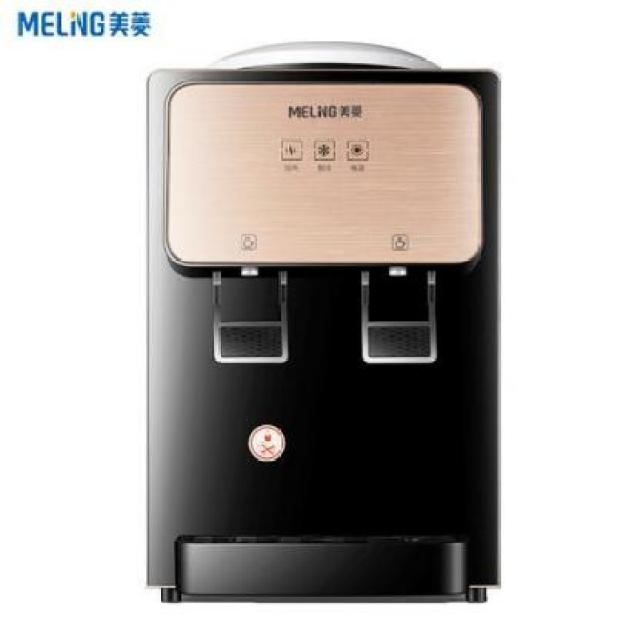cooler: (142, 35, 508, 612)
